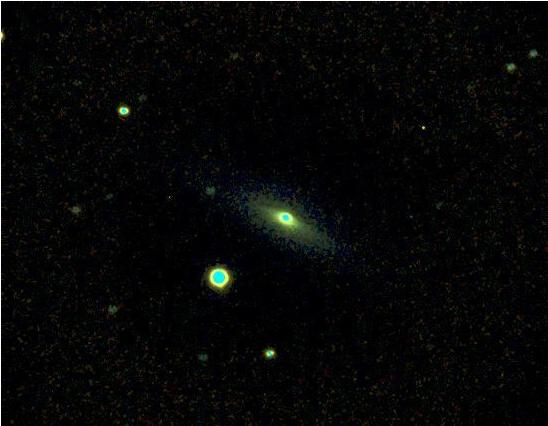star: (410, 106, 440, 136)
